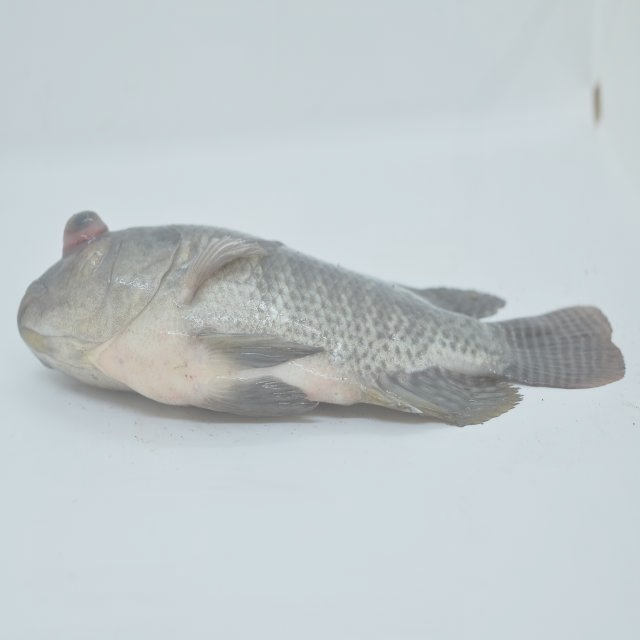streptococcus Disease: (14, 205, 628, 432)
